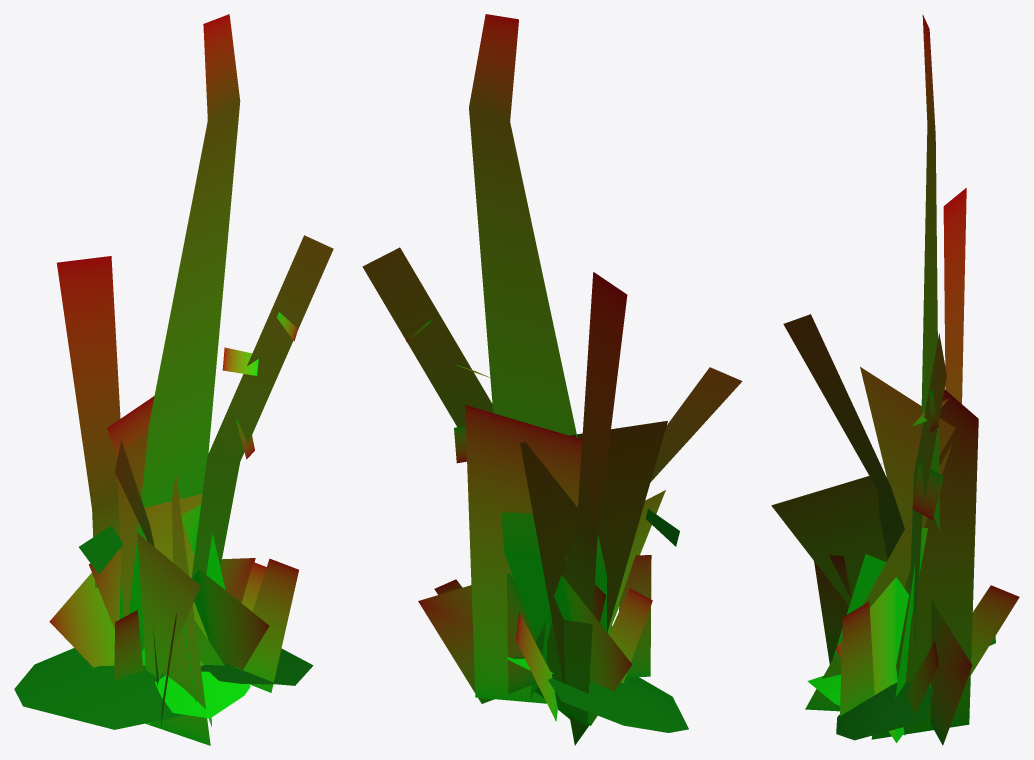
The model's file is DrySet01_Var5_LOD1.fbx.
3 views of the same model, side by side, from view 1: azimuth 30°, elevation 25°; view 2: azimuth 150°, elevation 25°; view 3: azimuth 270°, elevation 25° (orthographic). The views are drawn at different scales.
Visible parts, largest first — view 1: DrySet01_Var5_LOD1; view 2: DrySet01_Var5_LOD1; view 3: DrySet01_Var5_LOD1.
Boxes of the visible parts, left/top/right/bottom form: DrySet01_Var5_LOD1: left=14, top=14, right=333, bottom=745; DrySet01_Var5_LOD1: left=362, top=14, right=742, bottom=745; DrySet01_Var5_LOD1: left=771, top=14, right=1019, bottom=745.
Bounding box in the file's own units: 42.92 × 89.37 × 27.32.
